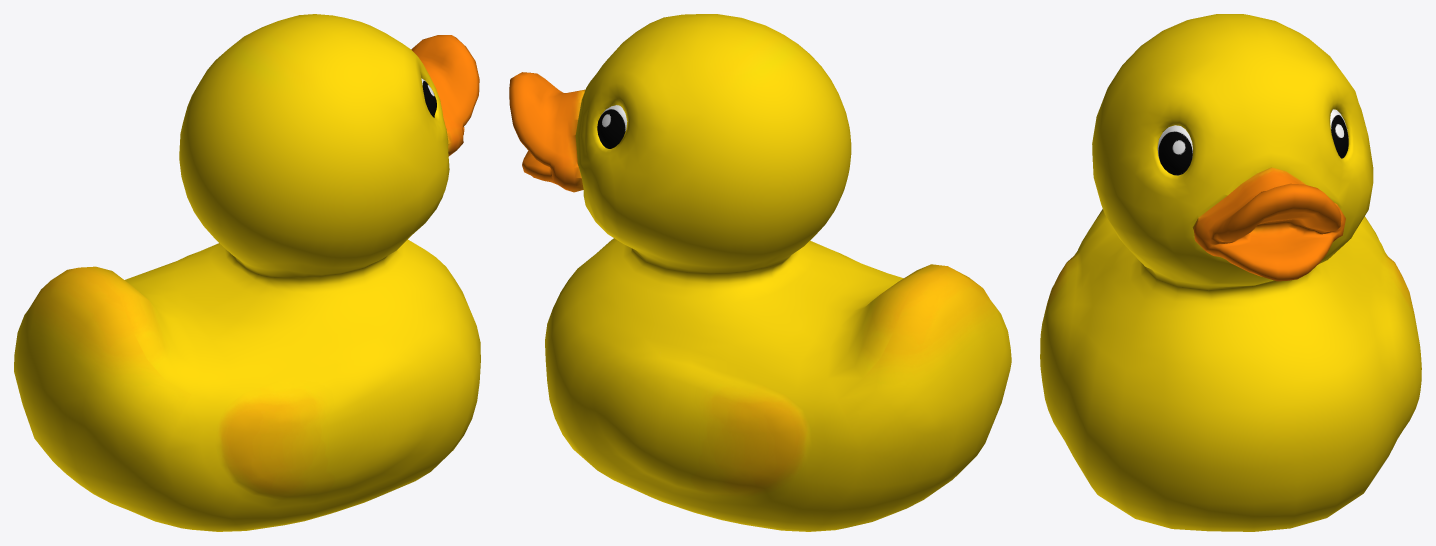
The picture shows the model from 3 angles, left to right: view 1: azimuth 30°, elevation 25°; view 2: azimuth 150°, elevation 25°; view 3: azimuth 270°, elevation 25°; orthographic projection. The views are drawn at different scales.
Visible parts, largest first — view 1: LOD3spShape; view 2: LOD3spShape; view 3: LOD3spShape.
Boxes of the visible parts, <box> form: LOD3spShape: <box>14,14,480,531</box>; LOD3spShape: <box>509,14,1011,531</box>; LOD3spShape: <box>1040,14,1421,531</box>.
Size of the model in its own units: 1.65 by 1.54 by 1.15.
1 material, 1 textured.
